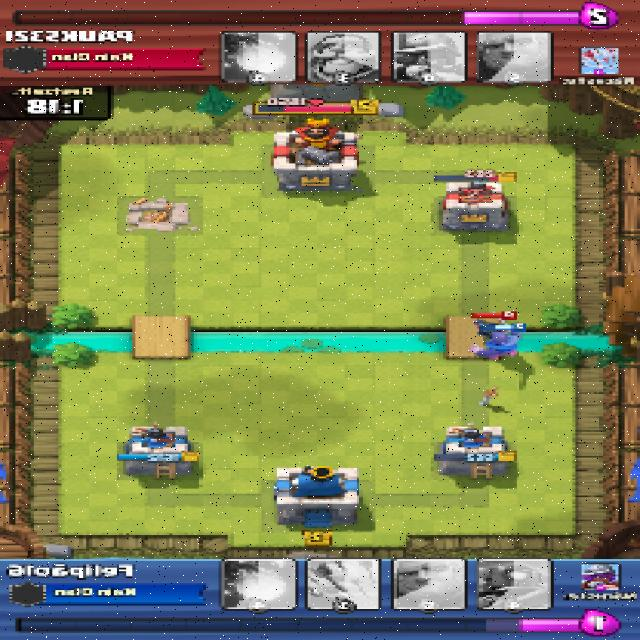Enemy-MiniPEKKA: (472, 316, 505, 332)
Player-Knight: (473, 331, 528, 361)
